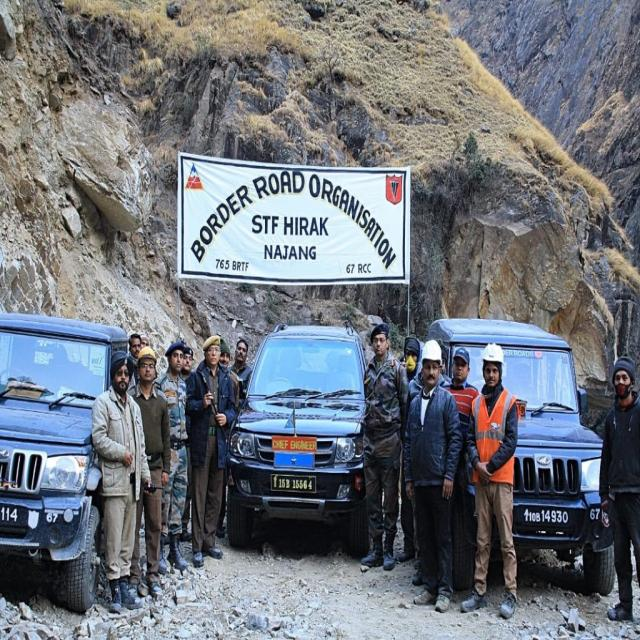military-plate: (520, 503, 571, 529), (269, 472, 316, 493)
unit number: (45, 509, 58, 526), (589, 504, 601, 522)
